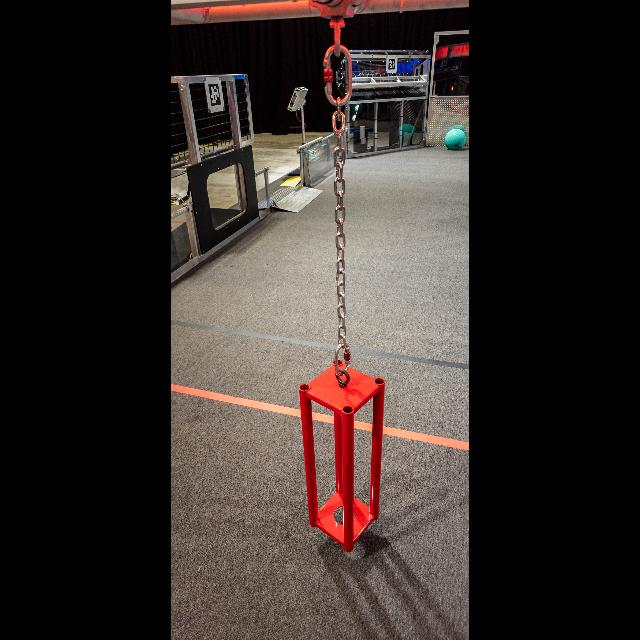ALGAE: (446, 130, 466, 150)
